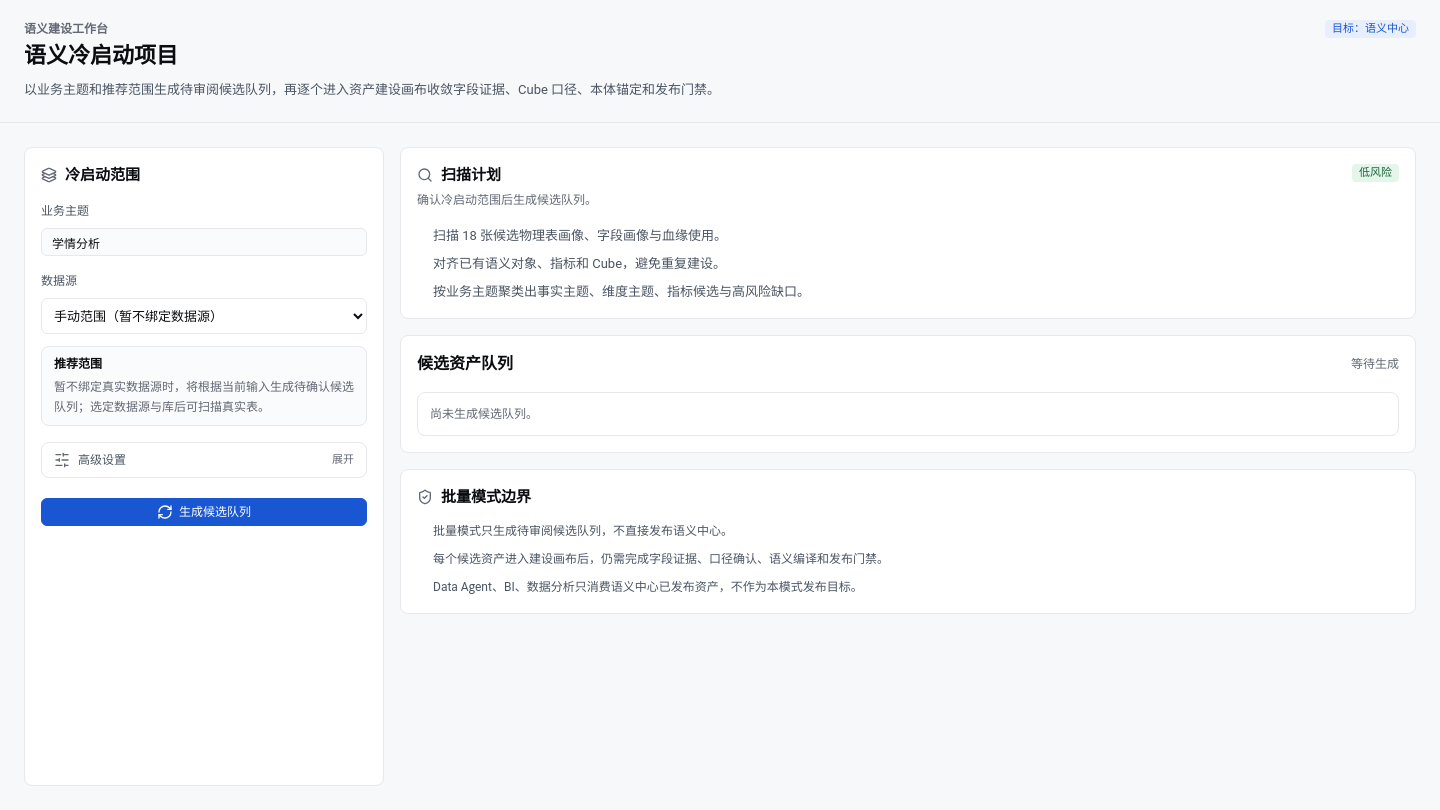
BatchModelingWorkbench › 选定真实数据源与库后下发扫描坐标
Select "dw 测试源" in the dropdown labelled "数据源": (204, 316) [41, 298, 367, 334]
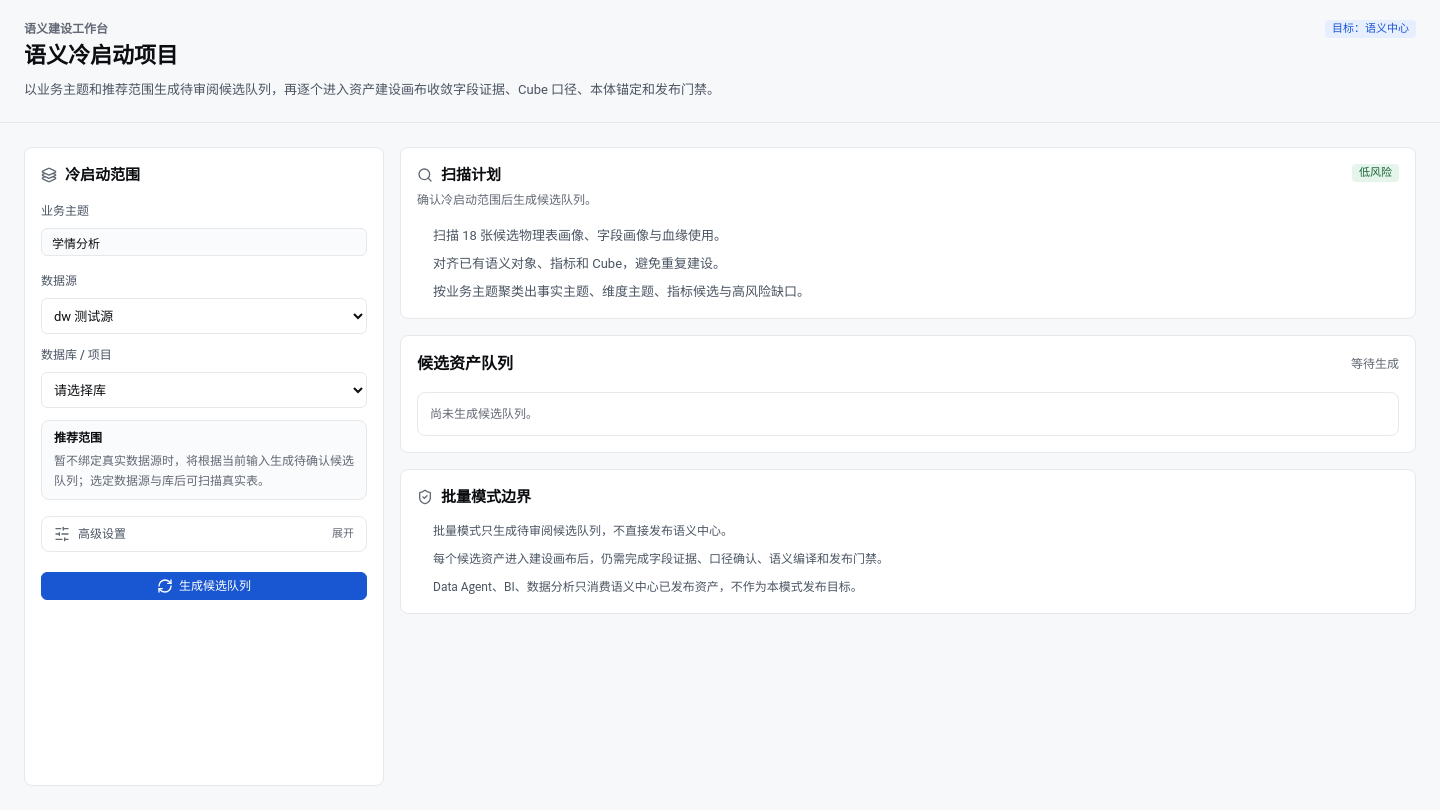
Select "dw" in the dropdown labelled "数据库 / 项目": (204, 390) [41, 372, 367, 408]
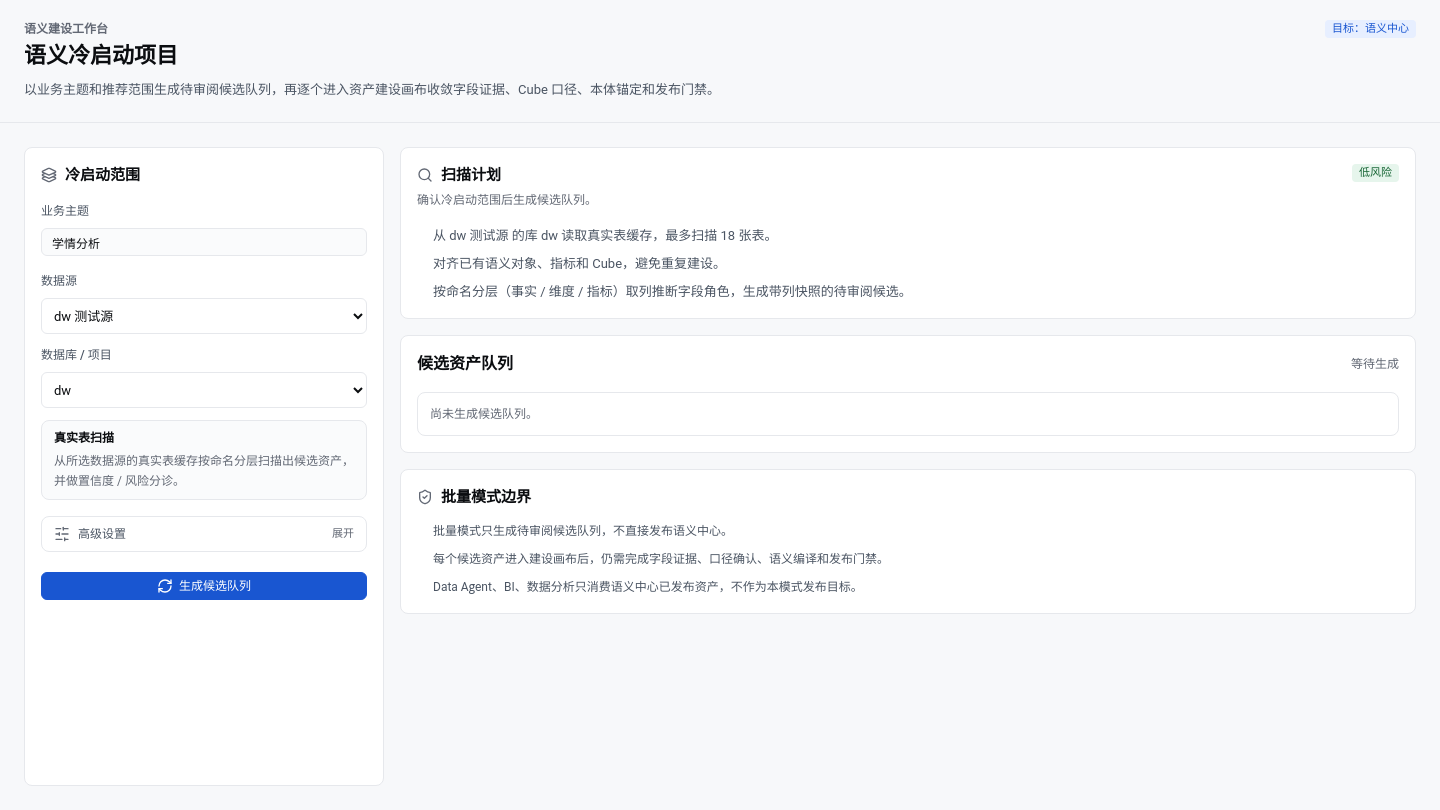
Click the button "生成候选队列": (204, 586) [41, 572, 367, 600]
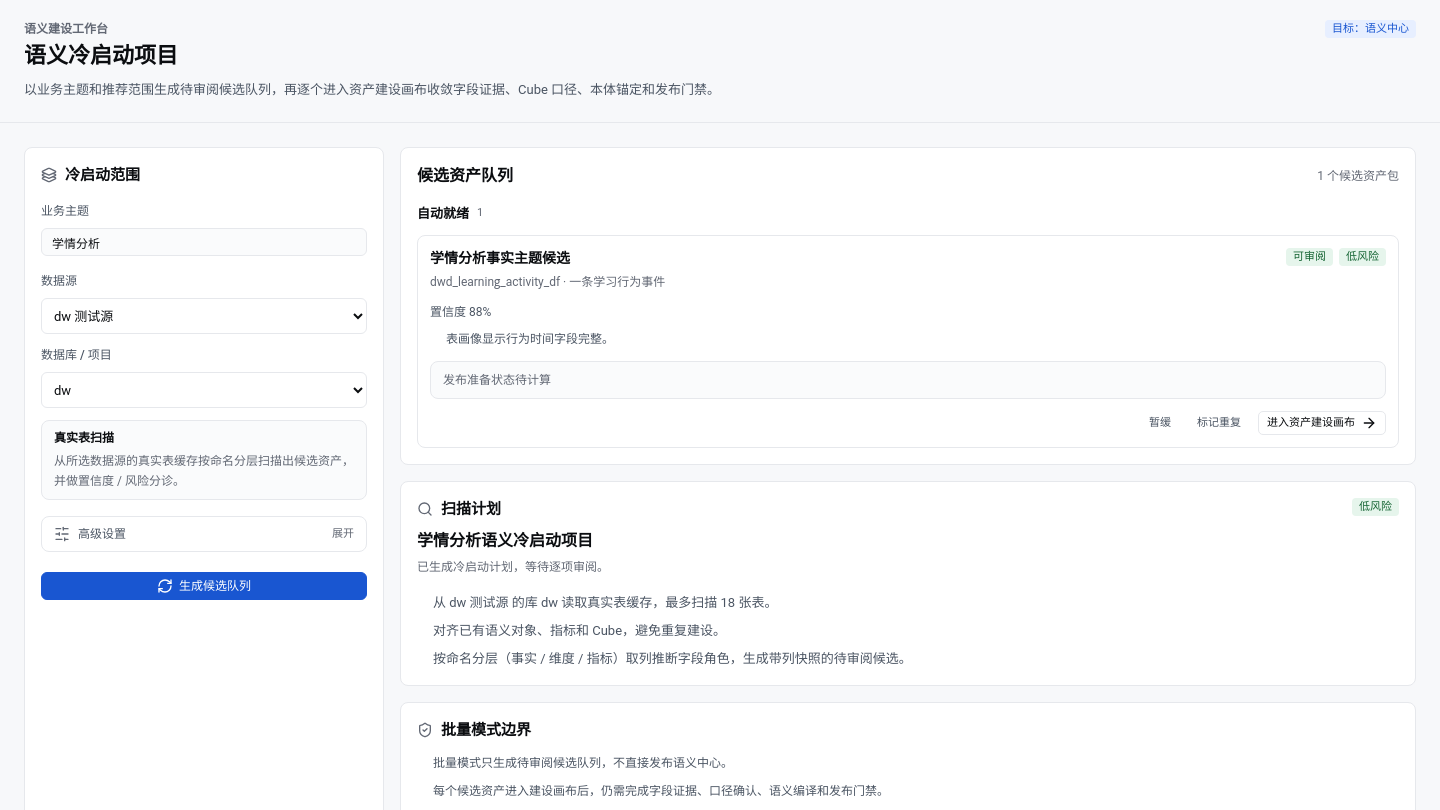
Now the heading "学情分析事实主题候选" is shown, box [430, 250, 570, 266]
